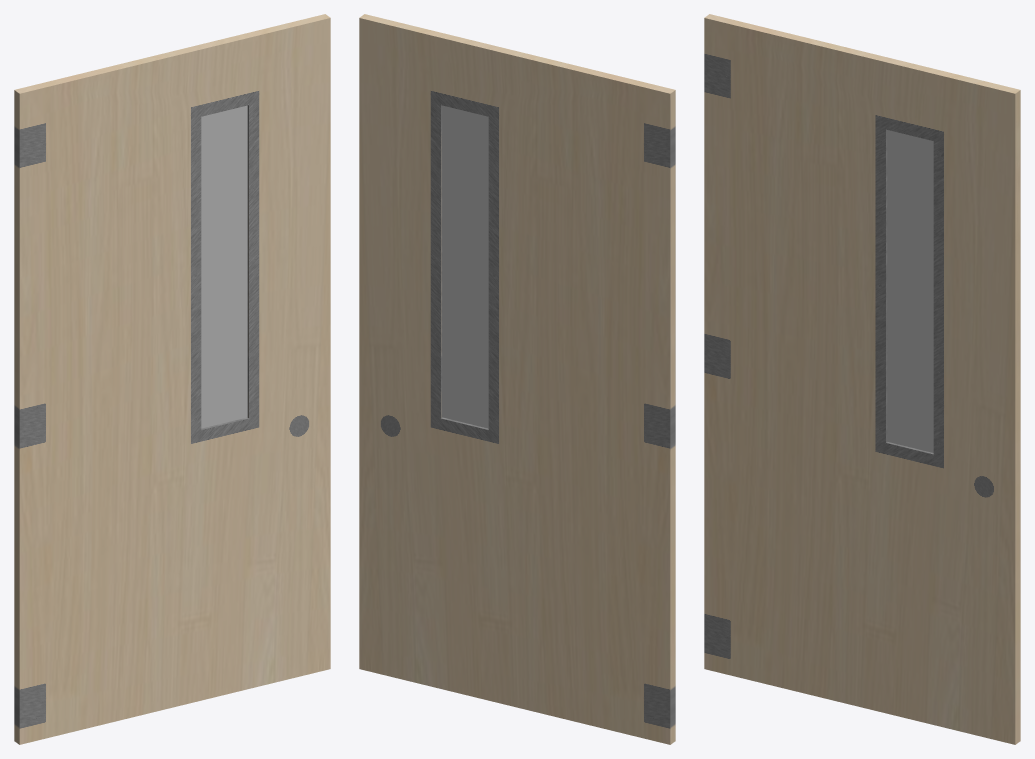
Rendered from Door_Finished.fbx.
The picture shows the model from 3 angles, left to right: view 1: azimuth 30°, elevation 25°; view 2: azimuth 150°, elevation 25°; view 3: azimuth 330°, elevation 25°; orthographic projection.
Parts seen in each view (by area): view 1: Door; view 2: Door; view 3: Door.
Boxes of the visible parts, bbox=[...] form: Door: bbox=[14, 14, 330, 744]; Door: bbox=[359, 14, 675, 744]; Door: bbox=[704, 14, 1020, 744].
Size of the model in its own units: 4 by 8 by 0.3295.
